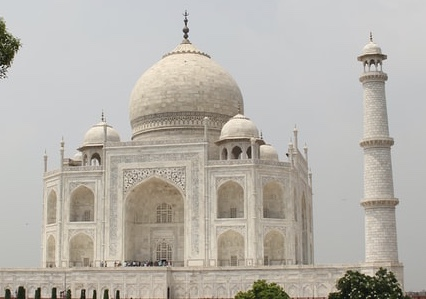Mosque: (19, 9, 335, 285)
